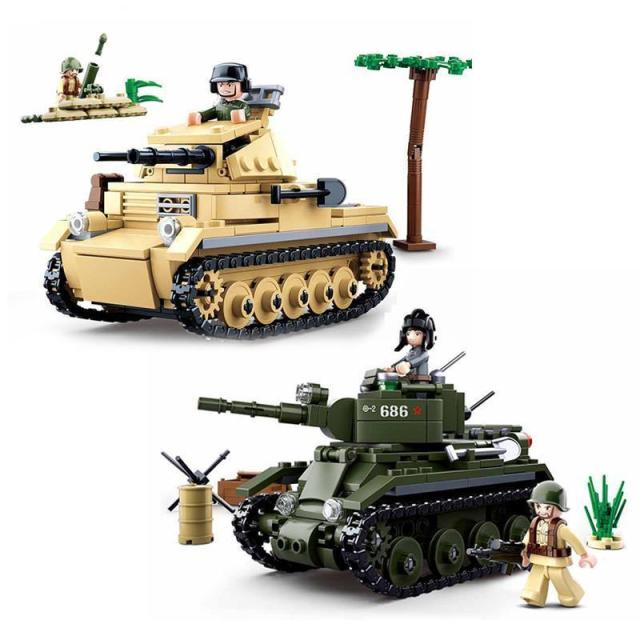Tanks: (60, 111, 400, 337), (192, 371, 546, 588)
